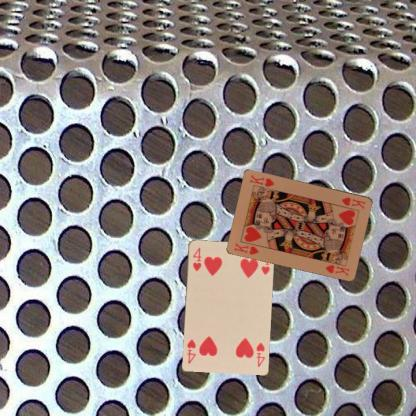4h: (190, 245, 202, 272), (254, 340, 265, 368)
Kh: (339, 194, 367, 210), (232, 240, 260, 256)
